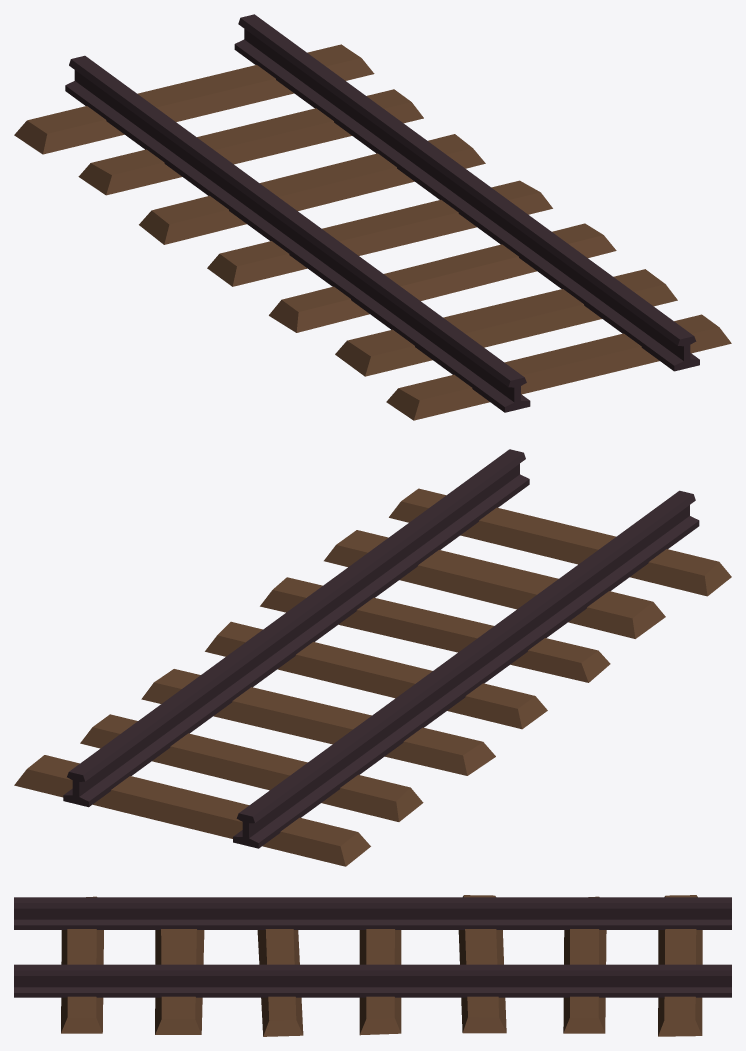
Rendered from railway_straight_style_01.fbx.
The picture shows the model from 3 angles, top to bottom: view 1: azimuth 30°, elevation 25°; view 2: azimuth 150°, elevation 25°; view 3: azimuth 270°, elevation 25°; orthographic projection. The views are drawn at different scales.
Visible parts, largest first — view 1: Straight; view 2: Straight; view 3: Straight.
Part boxes in pixels (x1,y1,x2,y2): Straight: [14, 14, 731, 420]; Straight: [14, 449, 731, 866]; Straight: [14, 895, 731, 1036].
Bounding box in the file's own units: 159 × 20.42 × 363.
